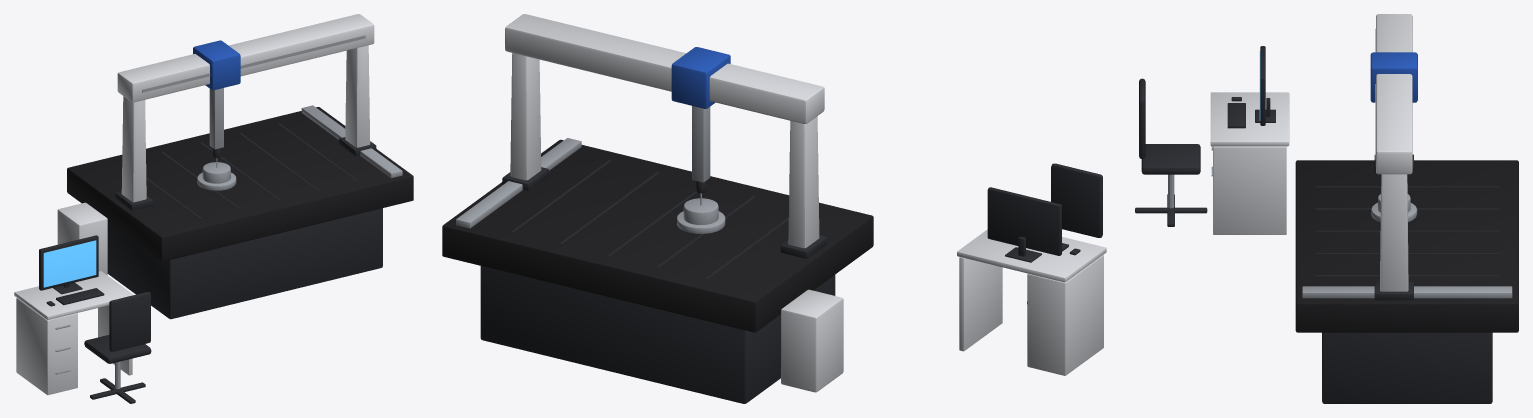
The model's file is Station_QualityInspection.fbx.
The picture shows the model from 3 angles, left to right: view 1: azimuth 30°, elevation 25°; view 2: azimuth 150°, elevation 25°; view 3: azimuth 270°, elevation 25°; orthographic projection. The views are drawn at different scales.
Visible parts, largest first — view 1: CMM, Desk; view 2: CMM, Desk; view 3: CMM, Desk.
Part boxes in pixels (<box>): CMM: <box>57,14,413,319</box>; Desk: <box>14,235,151,403</box>; CMM: <box>442,14,873,403</box>; Desk: <box>957,163,1106,375</box>; CMM: <box>1295,14,1518,403</box>; Desk: <box>1135,46,1289,234</box>.
Size of the model in its own units: 4.15 by 2.25 by 2.93.
